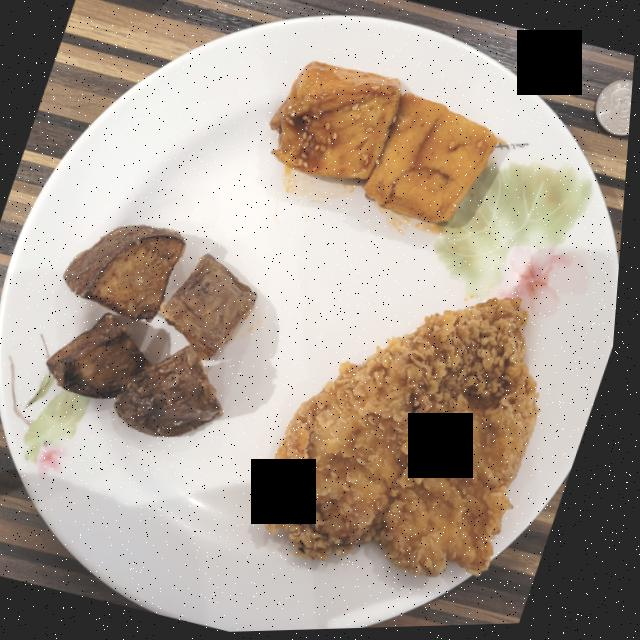coin: (596, 83, 634, 139)
creamy tofu: (271, 63, 498, 225)
fried chicken cutlet: (273, 301, 544, 579)
fried potato: (51, 226, 260, 438)
